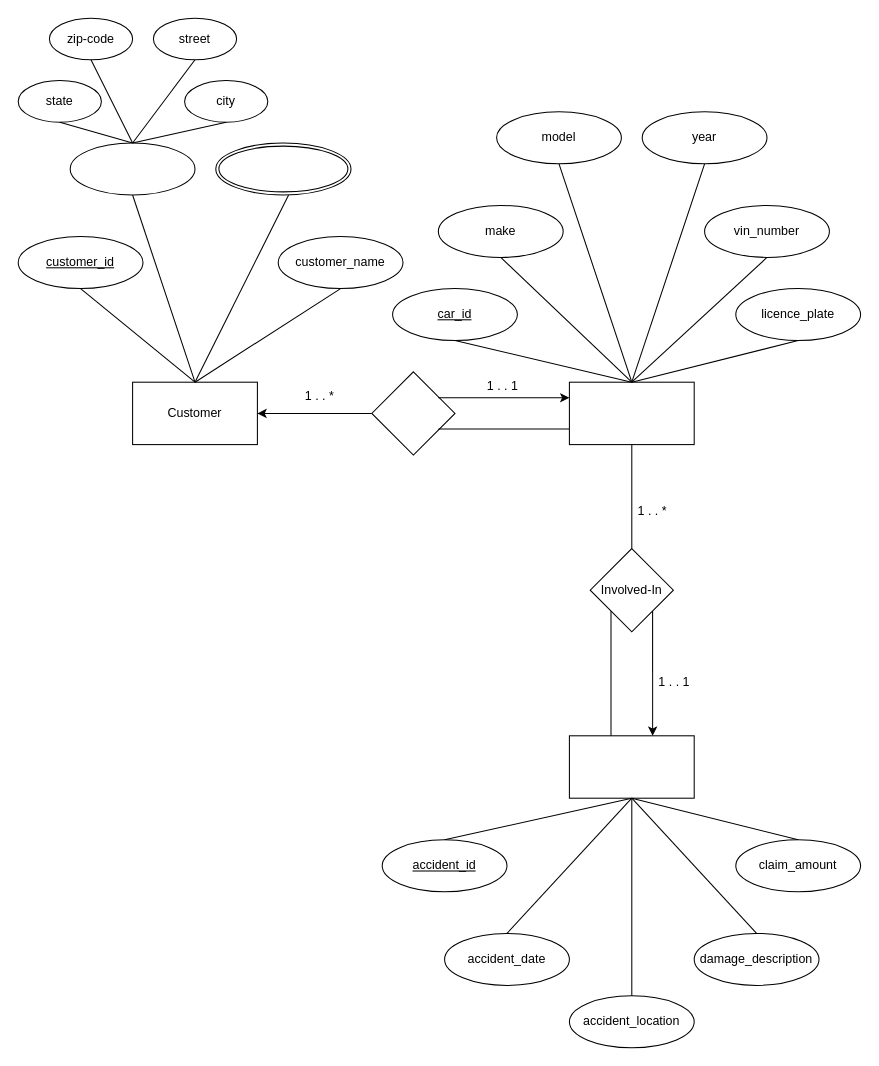
The diagram is 879 pixels wide and 1066 high, and some of its shapes have lost their labels. Each missing label, with the centre of its shape:
"Accident" belongs at pixel 631 766.
"Car" belongs at pixel 631 413.
"customer_address" belongs at pixel 132 168.
"customer_phone" belongs at pixel 283 168.
"Owns" belongs at pixel 413 413.
